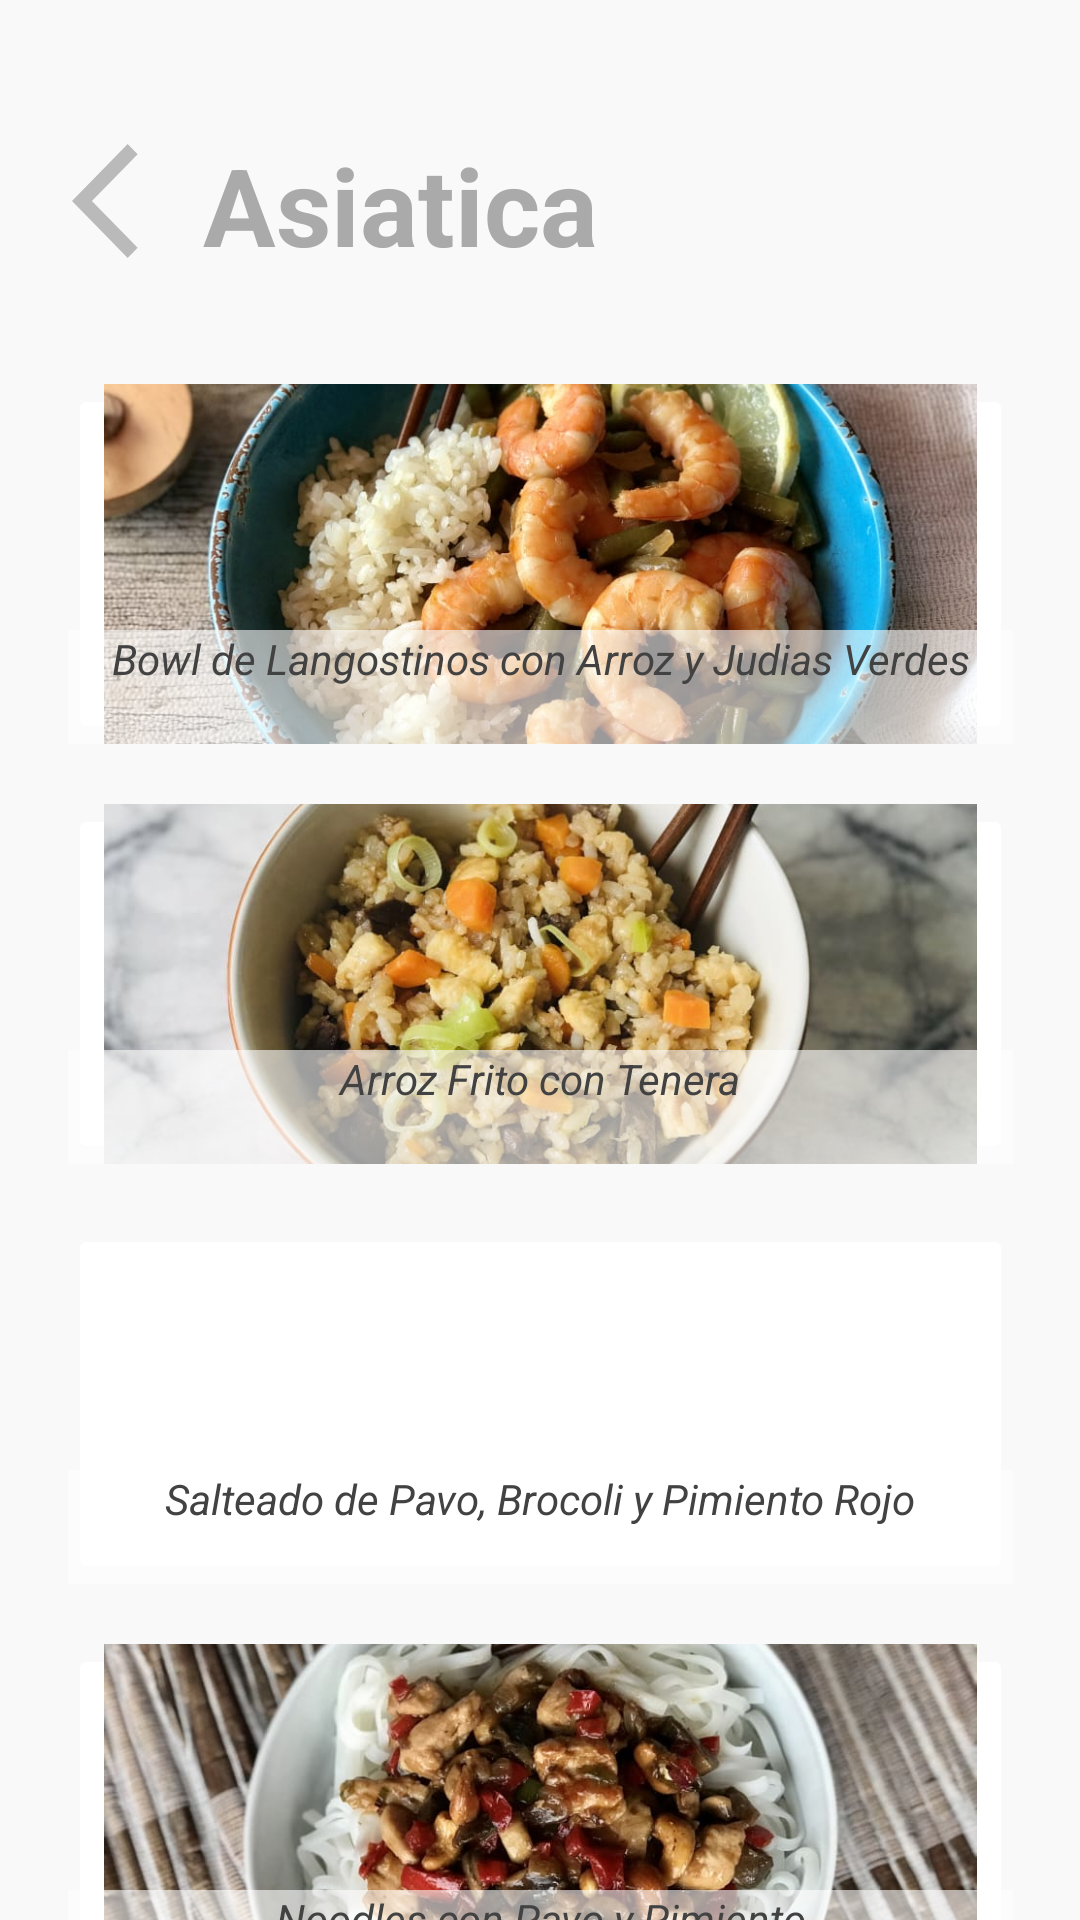

Named icons in this screenshot (1080w x 1920h) and their centers, (x=x, y=y):
flecha: (x=104, y=201)
